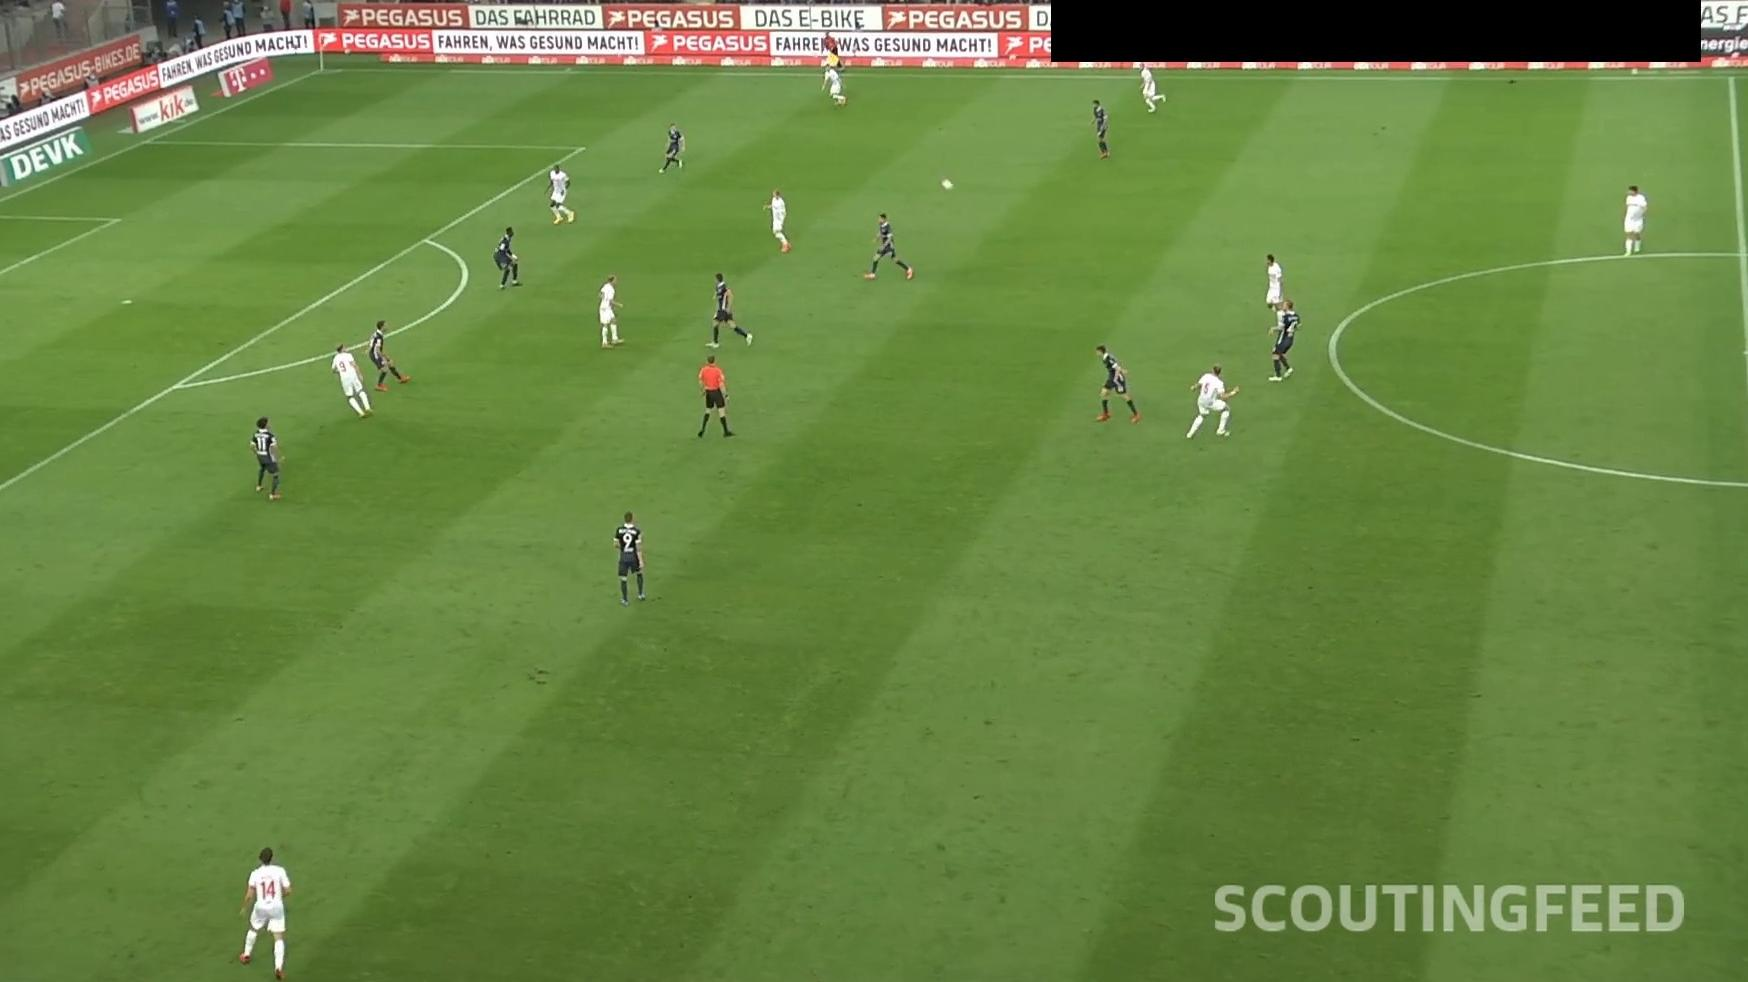ball: (940, 176, 956, 192)
